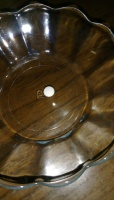Yuvarlak Buskopan: (43, 85, 56, 98)
